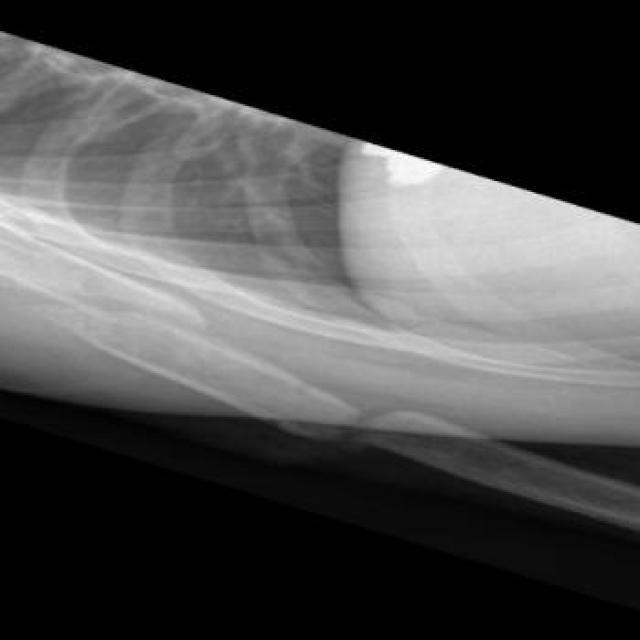Fracture: (45, 289, 226, 351), (306, 383, 420, 469)
